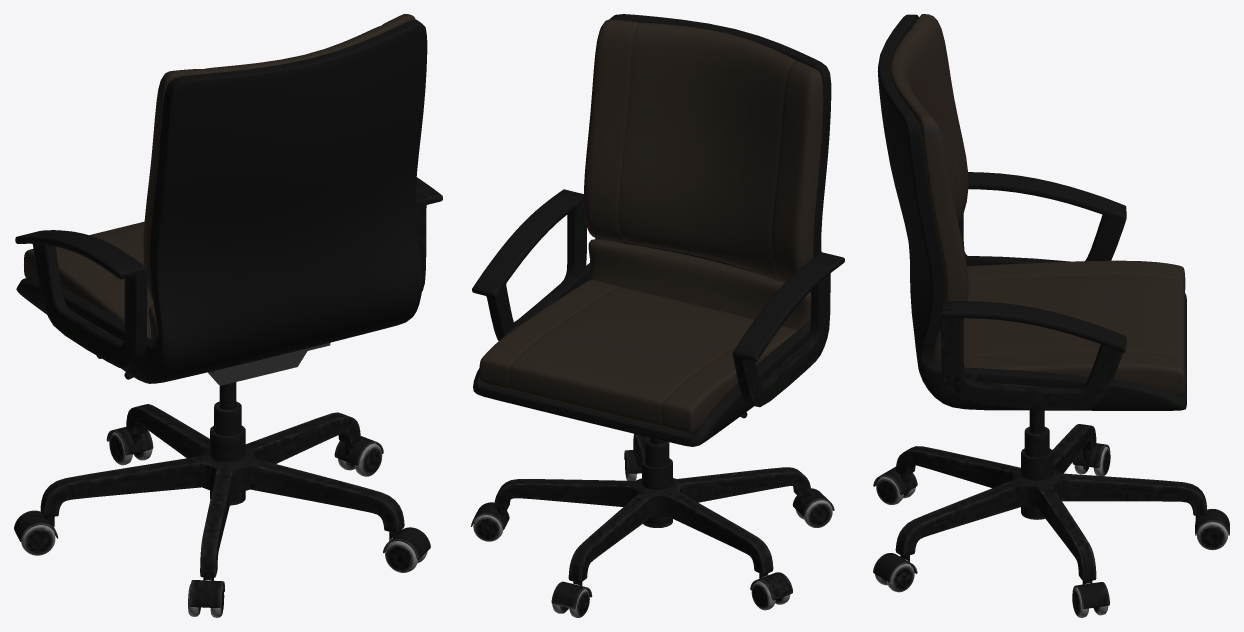
The model's file is Chair33.glb.
3 renders of one model, left to right at view 1: azimuth 30°, elevation 25°; view 2: azimuth 150°, elevation 25°; view 3: azimuth 270°, elevation 25°, orthographic. The views are drawn at different scales.
Parts seen in each view (by area): view 1: Chair33_model; view 2: Chair33_model; view 3: Chair33_model.
Part boxes in pixels (<box>): Chair33_model: <box>14,14,442,617</box>; Chair33_model: <box>471,14,844,617</box>; Chair33_model: <box>873,14,1229,617</box>.
Size of the model in its own units: 1.64 by 2.31 by 1.56.
Materials: 1 (1 with a texture image).
